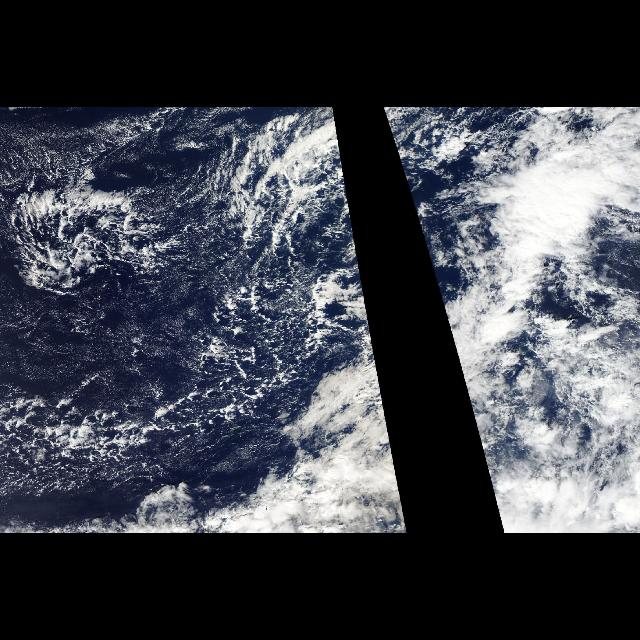Fish: (6, 168, 172, 300)
Gravel: (5, 117, 303, 481)
Sugar: (0, 306, 278, 467)
